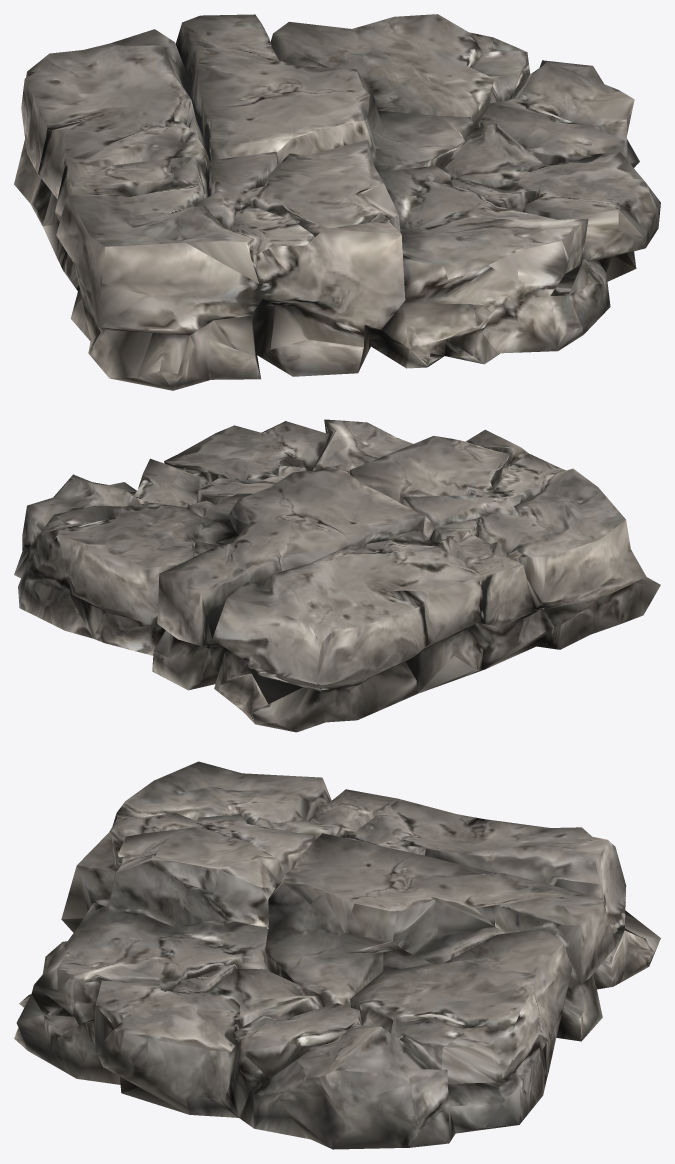
File: outcrop_b_lod2.glb
The picture shows the model from 3 angles, top to bottom: view 1: azimuth 30°, elevation 25°; view 2: azimuth 150°, elevation 25°; view 3: azimuth 270°, elevation 25°; orthographic projection. The views are drawn at different scales.
Parts seen in each view (by area): view 1: outcrop_b_lod2; view 2: outcrop_b_lod2; view 3: outcrop_b_lod2.
Boxes of the visible parts, left/top/right/bottom form: outcrop_b_lod2: left=14, top=14, right=660, bottom=390; outcrop_b_lod2: left=14, top=419, right=660, bottom=732; outcrop_b_lod2: left=14, top=761, right=660, bottom=1149.
Bounding box in the file's own units: 16.9 × 3.77 × 16.13.
Materials: 1 (1 with a texture image).
